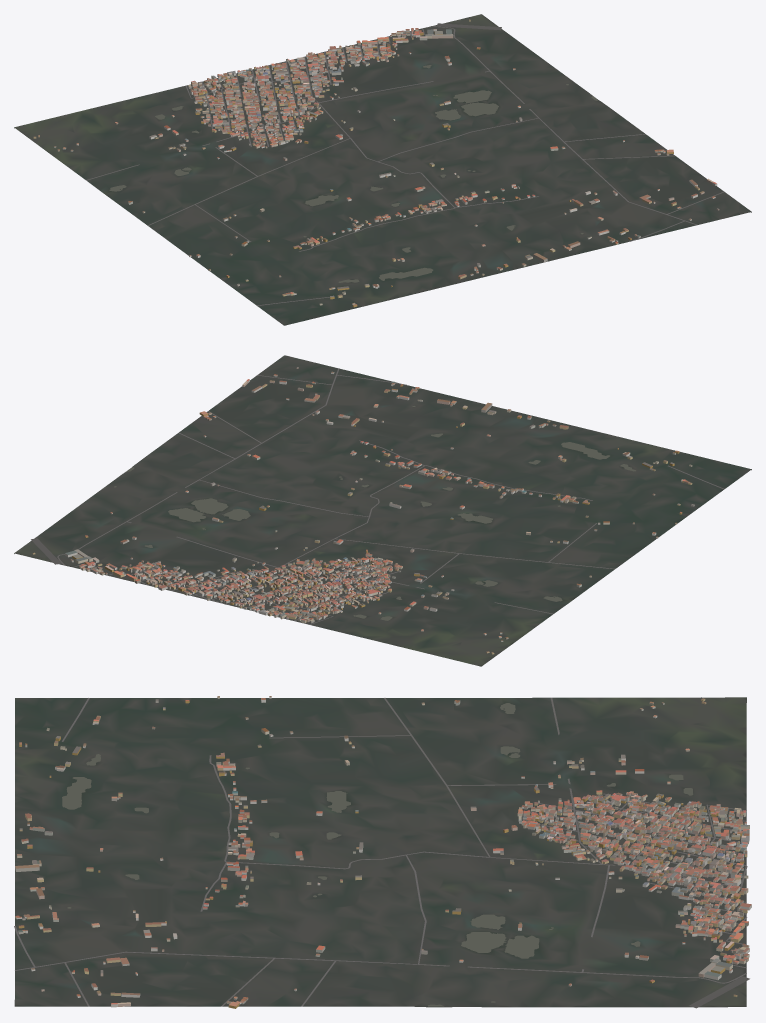
3 renders of one model, top to bottom at view 1: azimuth 30°, elevation 25°; view 2: azimuth 150°, elevation 25°; view 3: azimuth 270°, elevation 25°, orthographic. The views are drawn at different scales.
Parts seen in each view (by area): view 1: ground, buildings, roads, water; view 2: ground, buildings, roads, water; view 3: ground, buildings, roads, water.
Boxes of the visible parts, x1,y1,x2,y2 form: ground: (14, 14, 751, 325); buildings: (33, 19, 719, 307); roads: (86, 23, 724, 305); water: (109, 65, 598, 282); ground: (14, 355, 751, 666); buildings: (32, 367, 694, 654); roads: (31, 368, 724, 654); water: (114, 406, 635, 620); ground: (14, 697, 746, 1007); buildings: (15, 696, 751, 1008); roads: (14, 697, 749, 1008); water: (62, 703, 693, 1006).
Bounding box in the file's own units: 1410 × 16 × 1414.
